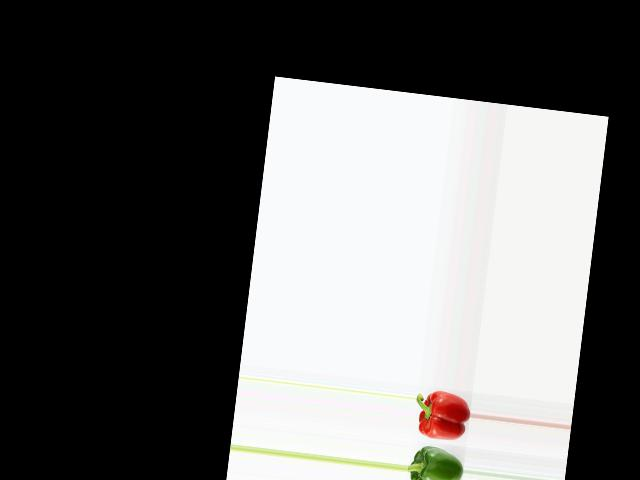bell_pepper: (406, 442, 463, 480)
